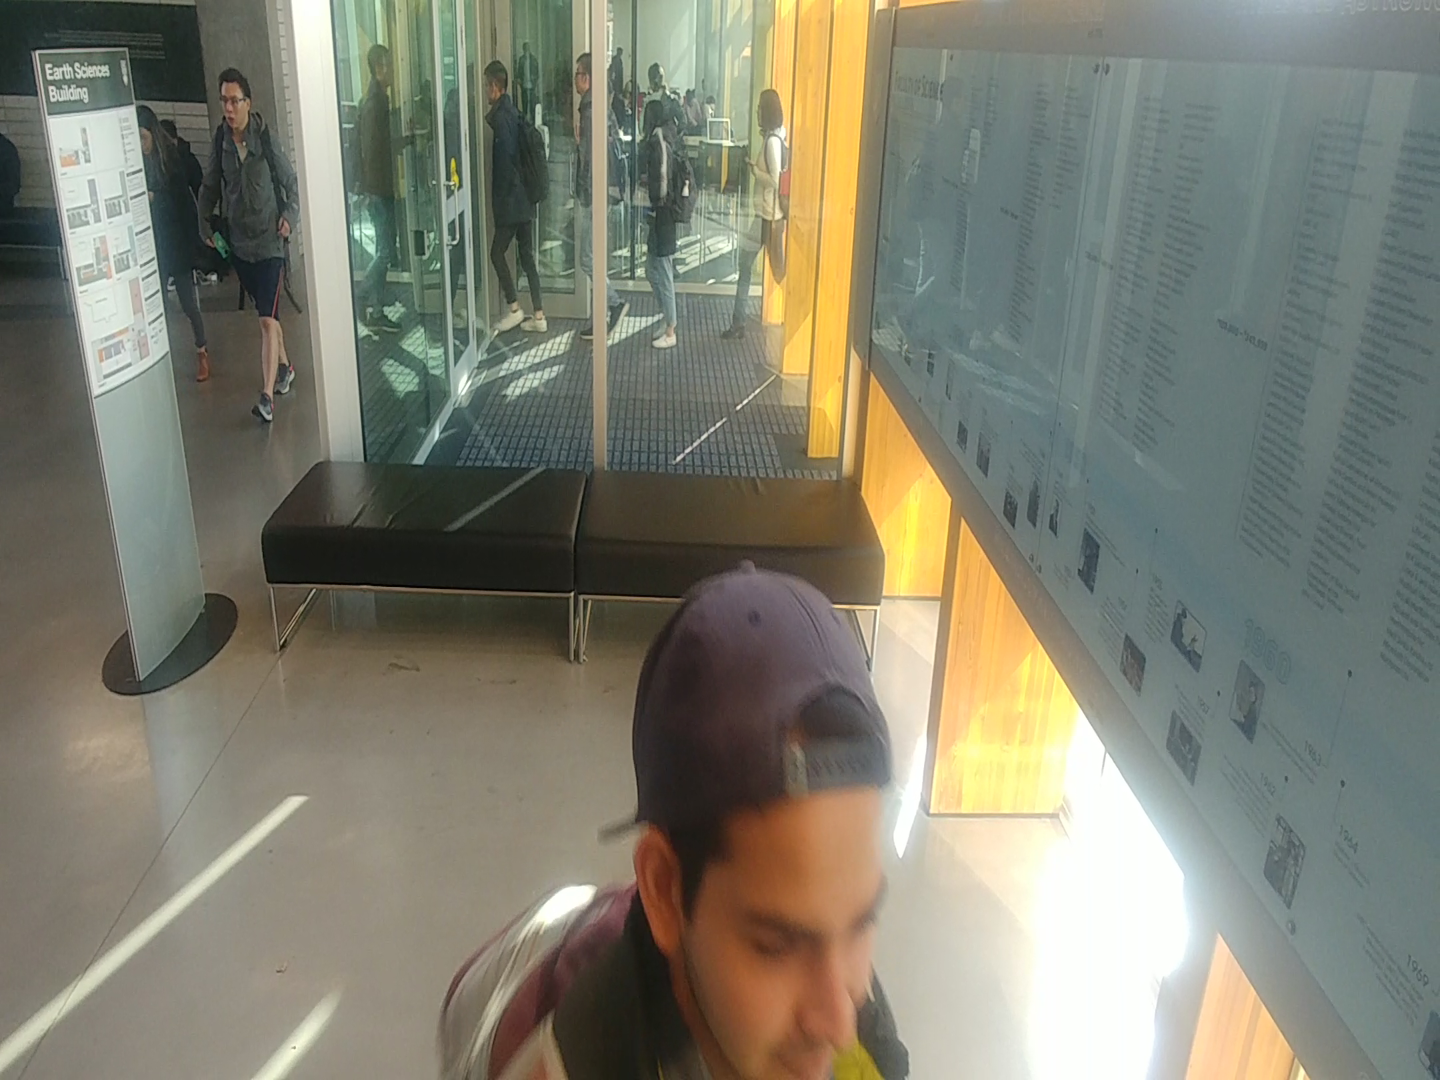face: (566, 543, 926, 1080), (209, 62, 264, 134), (741, 82, 795, 138), (357, 40, 409, 93), (633, 92, 681, 145), (477, 56, 524, 110), (562, 47, 596, 98)
human: (416, 546, 959, 1080), (190, 57, 314, 428), (469, 46, 564, 345), (130, 90, 218, 392), (341, 31, 415, 346), (717, 83, 794, 353), (633, 93, 704, 360)
